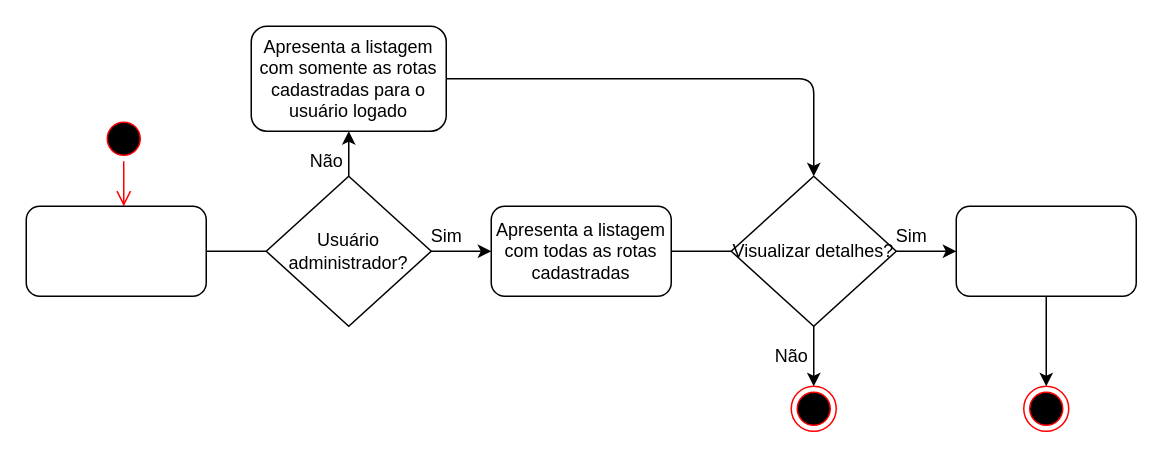
This 1163x458 diagram has some shape labels left out. The shapes that lost their labels are listed below. From the top down, each one's centre as x and y in pixels, then its label:
point (115, 250): Clicar no menu "Rotas"
point (1045, 250): Clica sobre o card da rota para abrir tela com todas informações da rota
